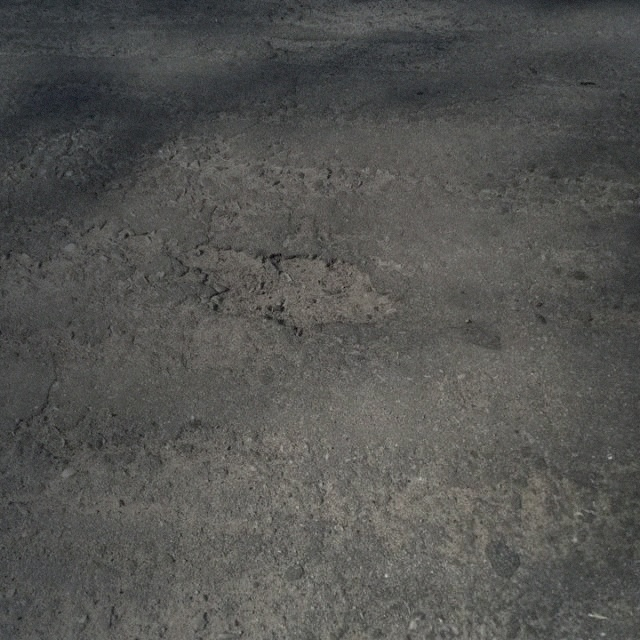pothole: (174, 241, 398, 335)
